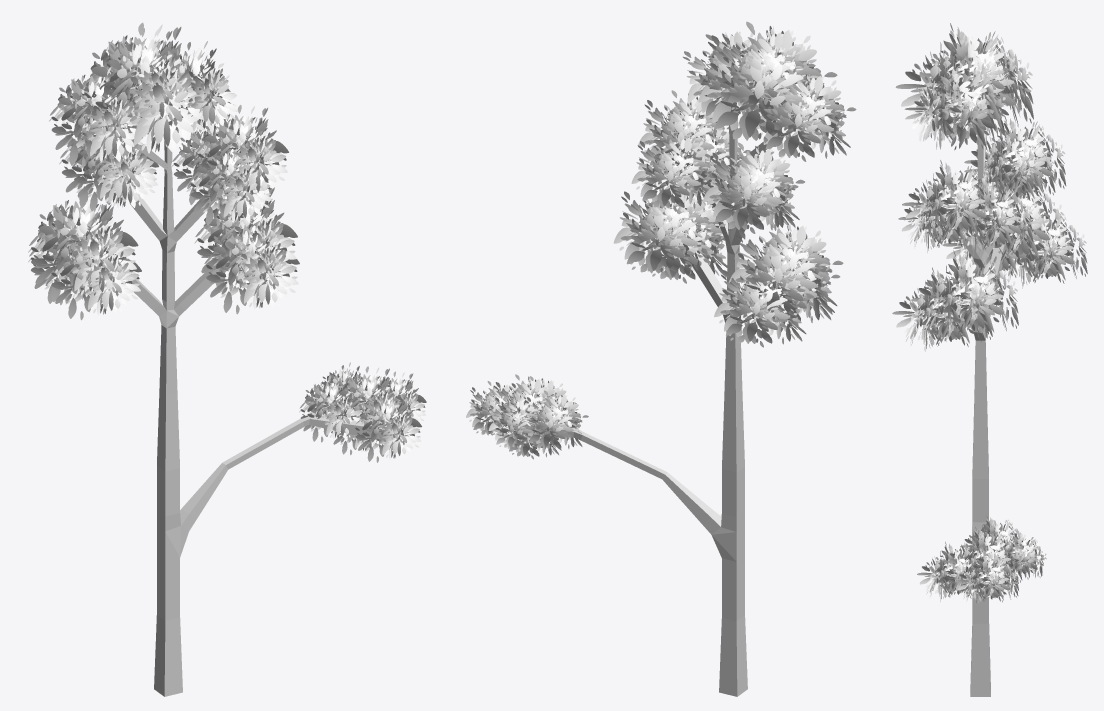
The model's file is tree02.fbx.
3 views of the same model, side by side, from view 1: azimuth 30°, elevation 25°; view 2: azimuth 150°, elevation 25°; view 3: azimuth 270°, elevation 25° (orthographic). The views are drawn at different scales.
Visible parts, largest first — view 1: treeleaf_03, treebark_03; view 2: treeleaf_03, treebark_03; view 3: treeleaf_03, treebark_03.
Boxes of the visible parts, bbox=[...] form: treeleaf_03: bbox=[28, 22, 426, 462]; treebark_03: bbox=[99, 104, 394, 696]; treeleaf_03: bbox=[466, 21, 856, 459]; treebark_03: bbox=[514, 104, 807, 696]; treeleaf_03: bbox=[892, 23, 1087, 605]; treebark_03: bbox=[944, 119, 1022, 696].
Bounding box in the file's own units: 5717 × 9361 × 2564.
